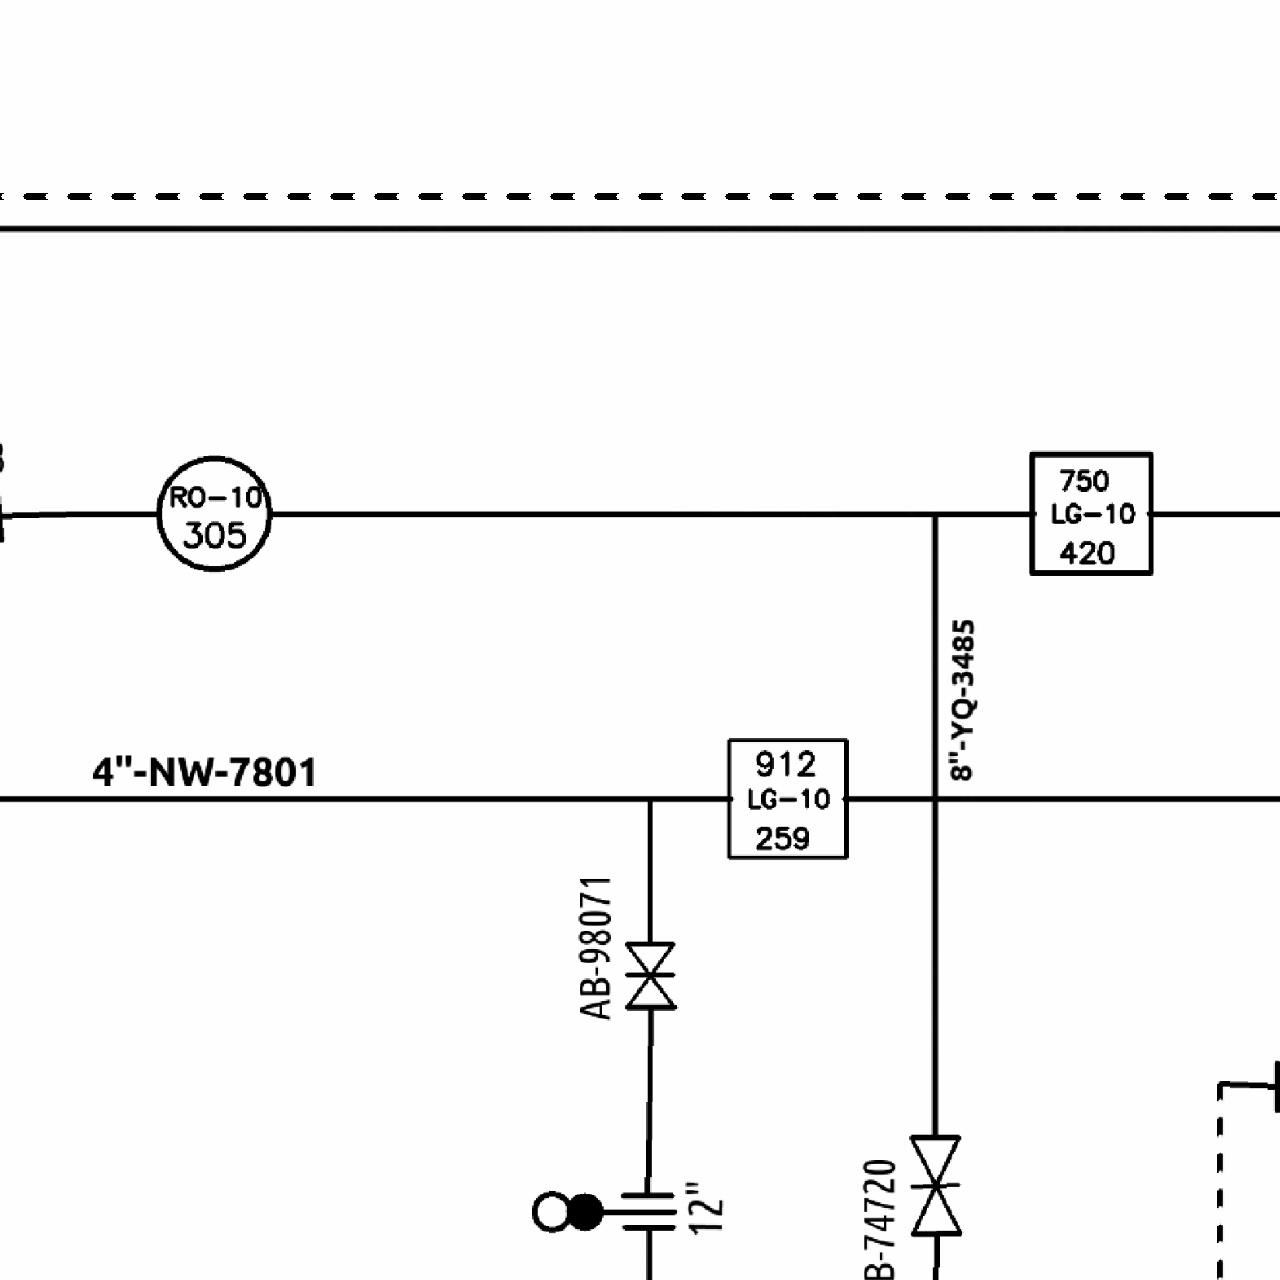Control-Panel: (149, 451, 277, 576)
